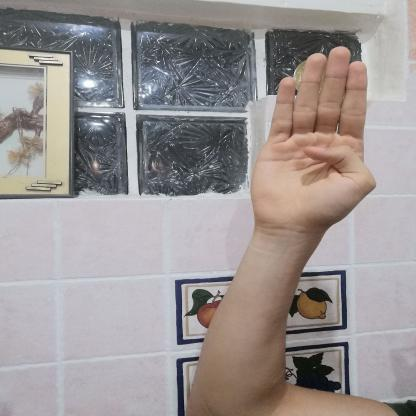KAAF: (236, 36, 389, 246)
